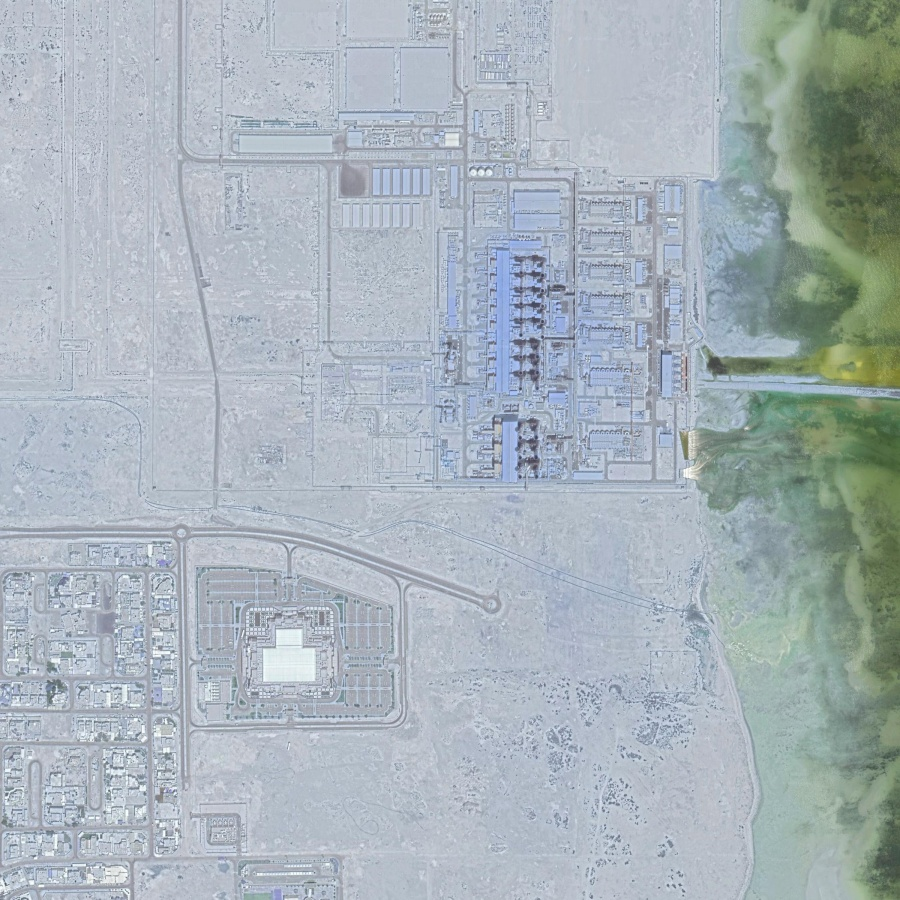PowerPlant: (458, 157, 718, 483)
